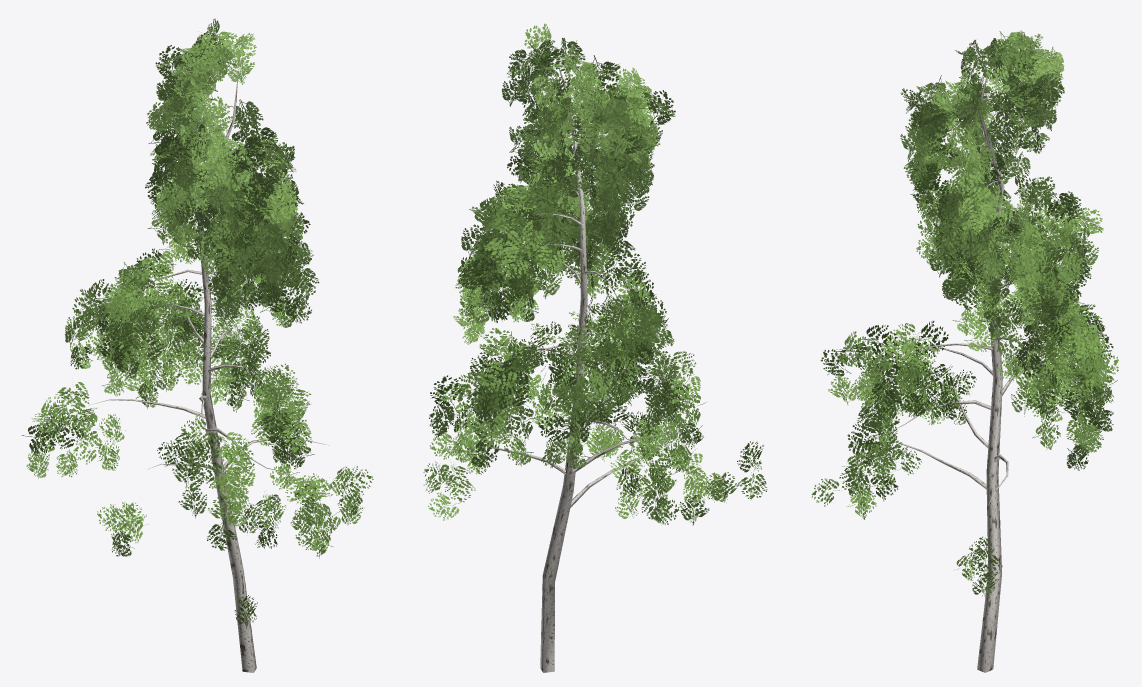
Rendered from birch_tree_2_lod1.gltf.
The picture shows the model from 3 angles, left to right: view 1: azimuth 30°, elevation 25°; view 2: azimuth 150°, elevation 25°; view 3: azimuth 270°, elevation 25°; orthographic projection. The views are drawn at different scales.
Visible parts, largest first — view 1: birch_tree_2_lod1; view 2: birch_tree_2_lod1; view 3: birch_tree_2_lod1.
Part boxes in pixels (x1,y1,x2,y2): birch_tree_2_lod1: [21, 18, 373, 672]; birch_tree_2_lod1: [423, 23, 767, 672]; birch_tree_2_lod1: [811, 30, 1118, 672].
Bounding box in the file's own units: 4.39 × 8.24 × 3.85.
2 materials, 2 textured.
